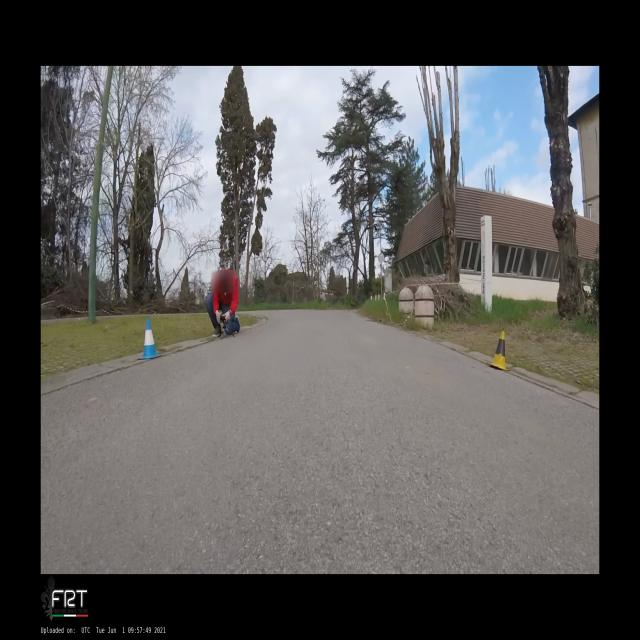blue_cone: (138, 316, 161, 359)
yellow_cone: (486, 329, 511, 371)
